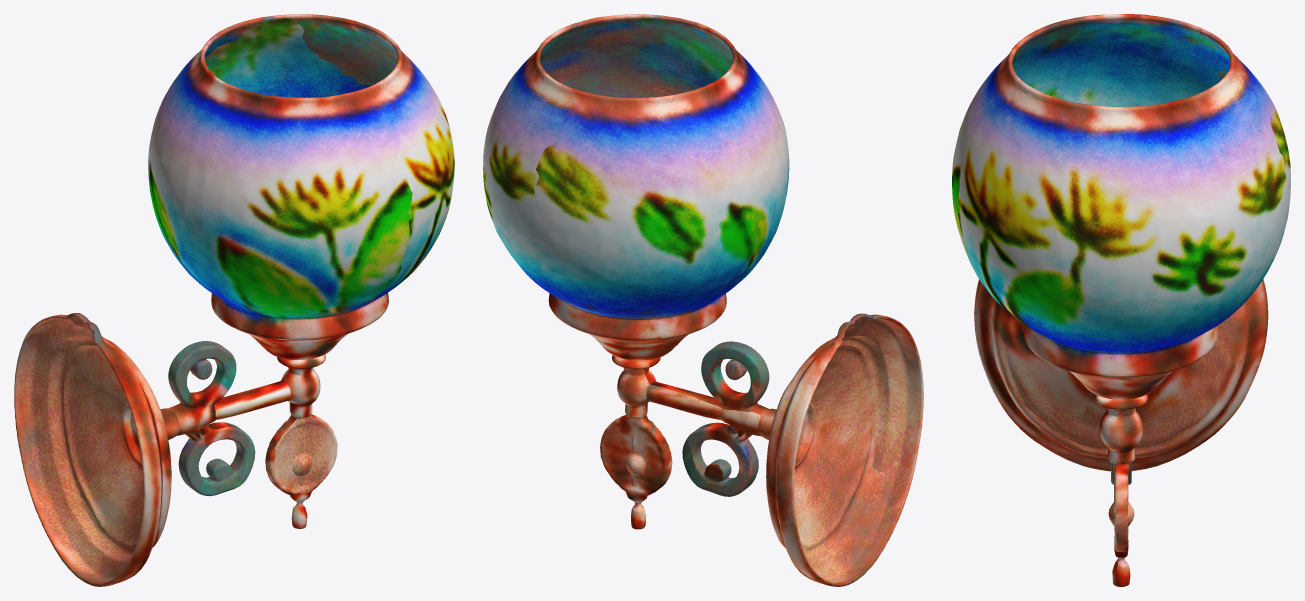
The model's file is paint-it.glb.
3 renders of one model, left to right at view 1: azimuth 30°, elevation 25°; view 2: azimuth 150°, elevation 25°; view 3: azimuth 270°, elevation 25°, orthographic. The views are drawn at different scales.
Visible parts, largest first — view 1: mesh; view 2: mesh; view 3: mesh.
Part boxes in pixels (left/top/right/bottom): mesh: left=14, top=14, right=454, bottom=586; mesh: left=483, top=14, right=923, bottom=586; mesh: left=952, top=14, right=1290, bottom=586.
Size of the model in its own units: 1.58 by 2 by 1.17.
1 material, 1 textured.
